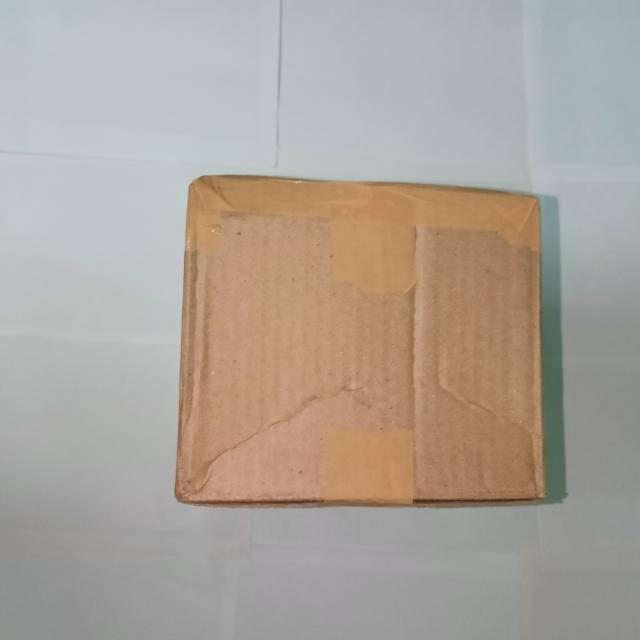box: (180, 177, 545, 502)
